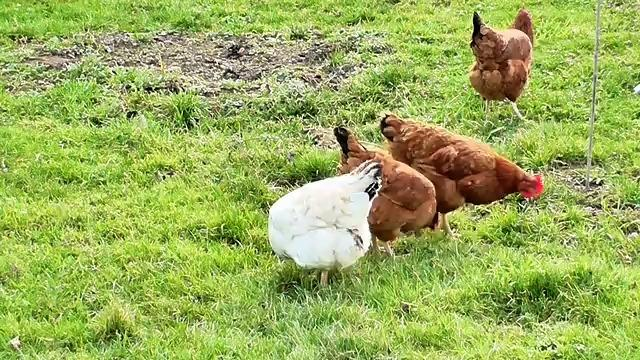Normal: (383, 114, 542, 234), (338, 125, 443, 250), (471, 3, 536, 117)
